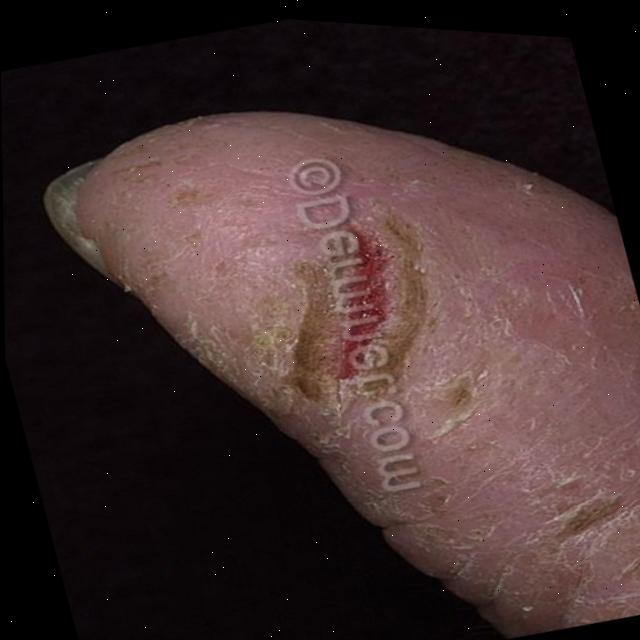Eczema: (244, 148, 640, 640)
